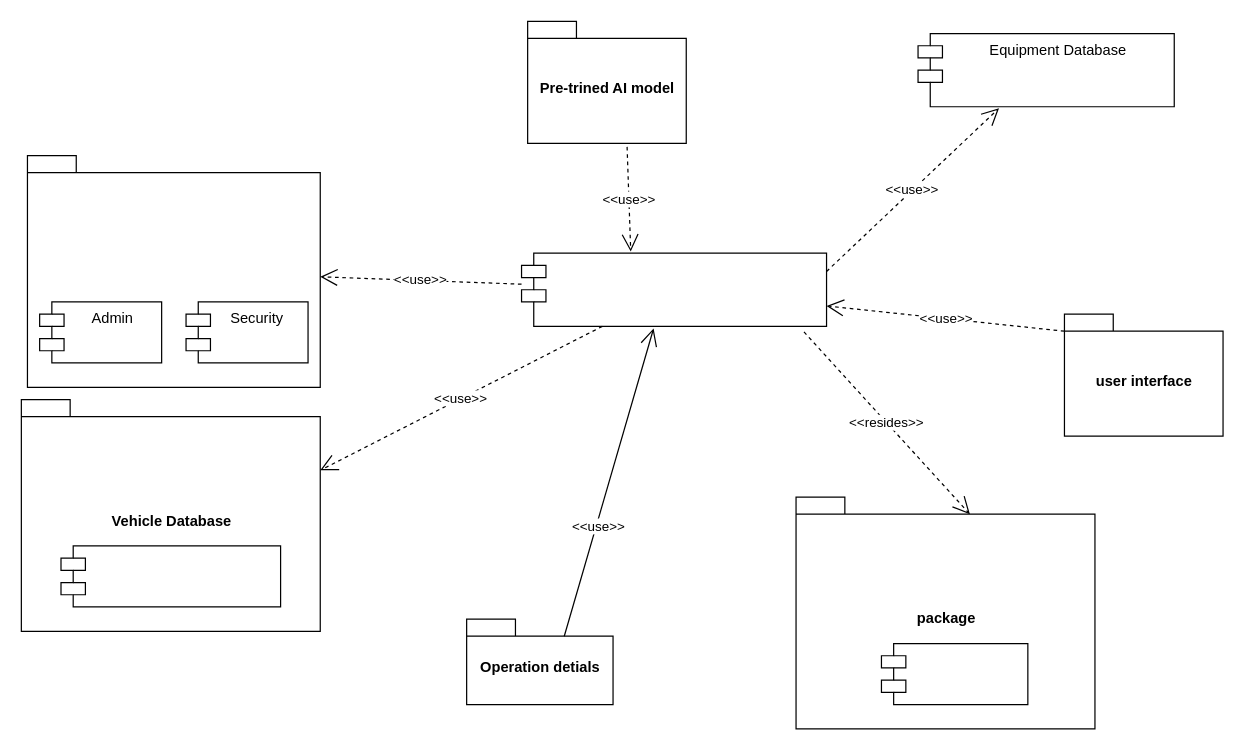
The diagram is 1244 pixels wide and 750 high, and some of its shapes have lost their labels. Here are the shapes that lost their labels. From the top down, the box of each, then its label:
(26, 154, 320, 387): Staff Database
(520, 252, 827, 326): Parking management system (Server)
(60, 545, 281, 607): Autorized vehicle Database
(880, 642, 1028, 705): Data Processing
